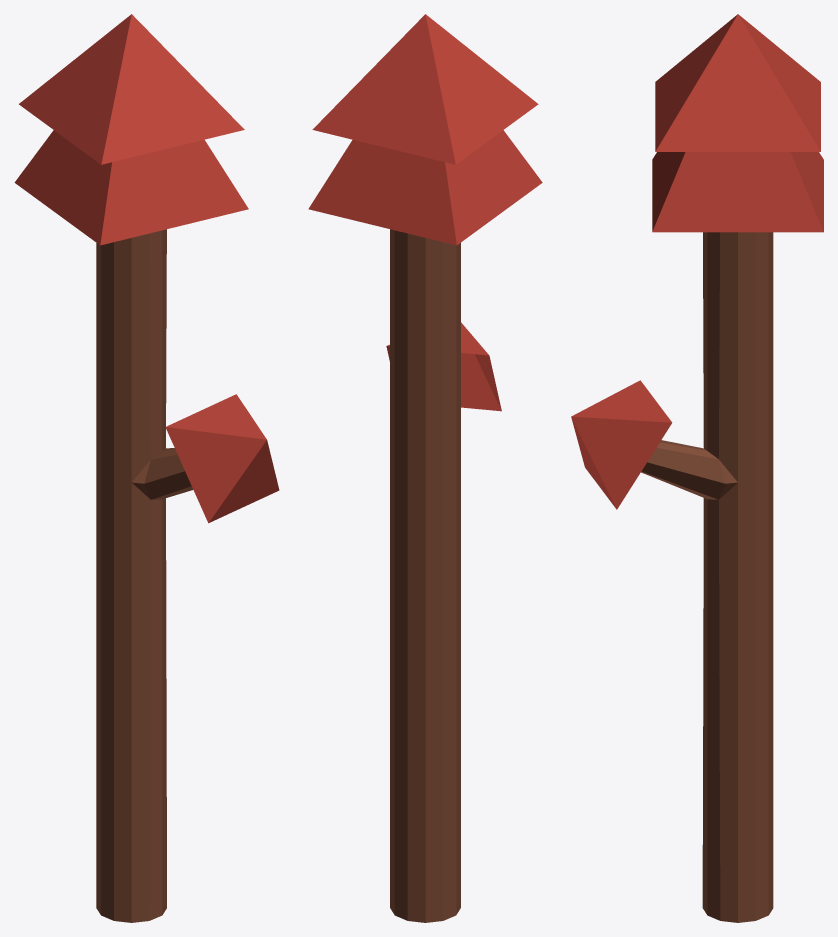
Rendered from Tree_25_summer_red_vc.fbx.
3 views of the same model, side by side, from view 1: azimuth 30°, elevation 25°; view 2: azimuth 150°, elevation 25°; view 3: azimuth 270°, elevation 25° (orthographic).
Visible parts, largest first — view 1: Tree_25_summer_red_vc; view 2: Tree_25_summer_red_vc; view 3: Tree_25_summer_red_vc.
Part boxes in pixels (left/top/right/bottom): Tree_25_summer_red_vc: left=14, top=14, right=279, bottom=922; Tree_25_summer_red_vc: left=308, top=14, right=542, bottom=922; Tree_25_summer_red_vc: left=571, top=14, right=823, bottom=922.
Size of the model in its own units: 58.32 by 308 by 79.03.
